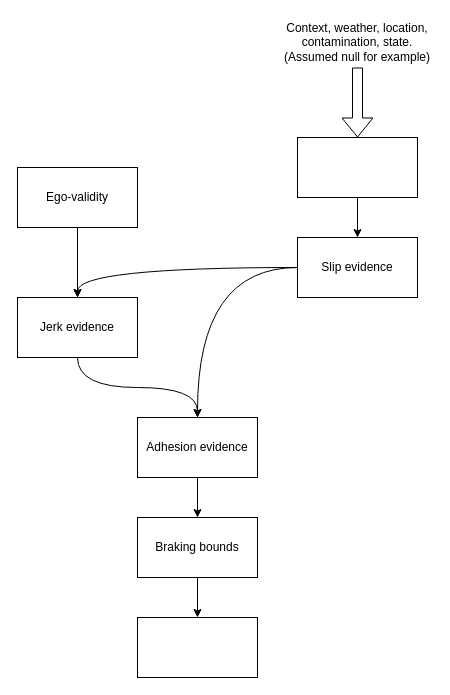
The diagram is 450 pixels wide and 695 high, and some of its shapes have lost their labels. The centre of each missing label's shape, as x and y in pixels:
"Adhesion state mu_E, mu_P" belongs at (357,167).
"Relative Braking admissibility" belongs at (197,647).
